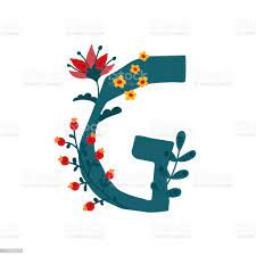g: (64, 44, 208, 220)
